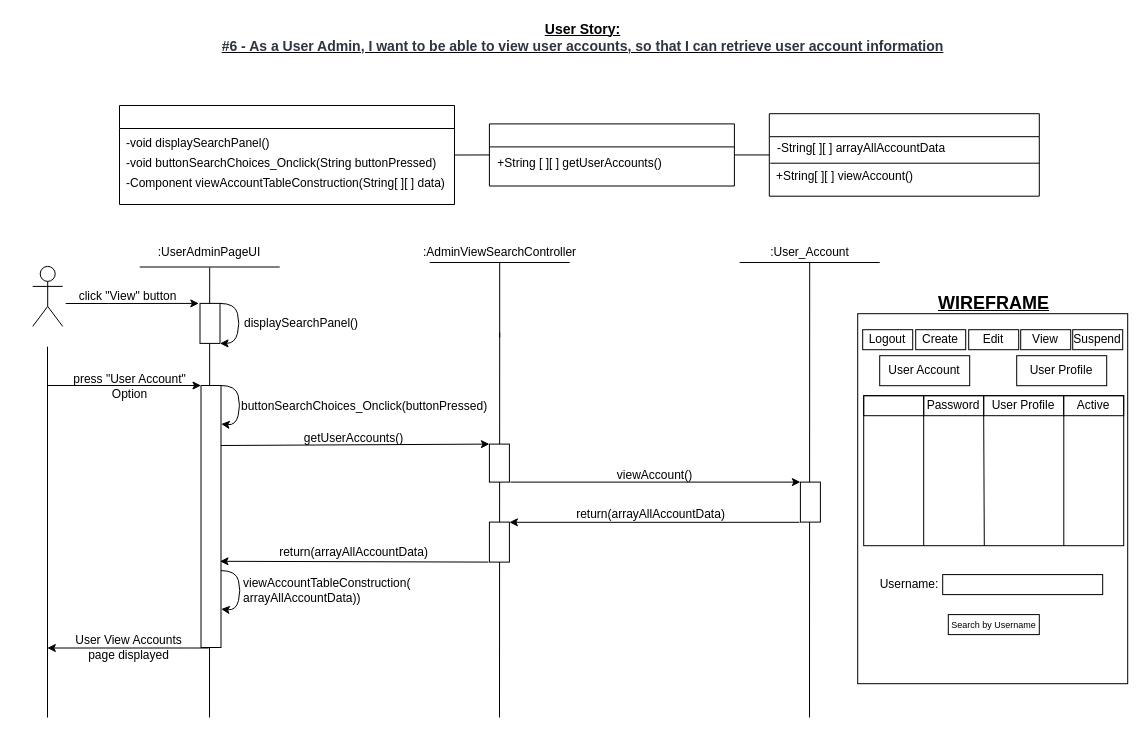
Image size: 1146x736. Some labels were removed from this diagram. Here are the shapes that lost their labels. From the top down, the box of each, then its label:
(118, 104, 454, 204): UserAdminPageUI
(488, 123, 734, 186): AdminViewSearchController
(768, 113, 1039, 196): User_Account
(32, 265, 63, 326): User Admin
(863, 395, 924, 416): Username
